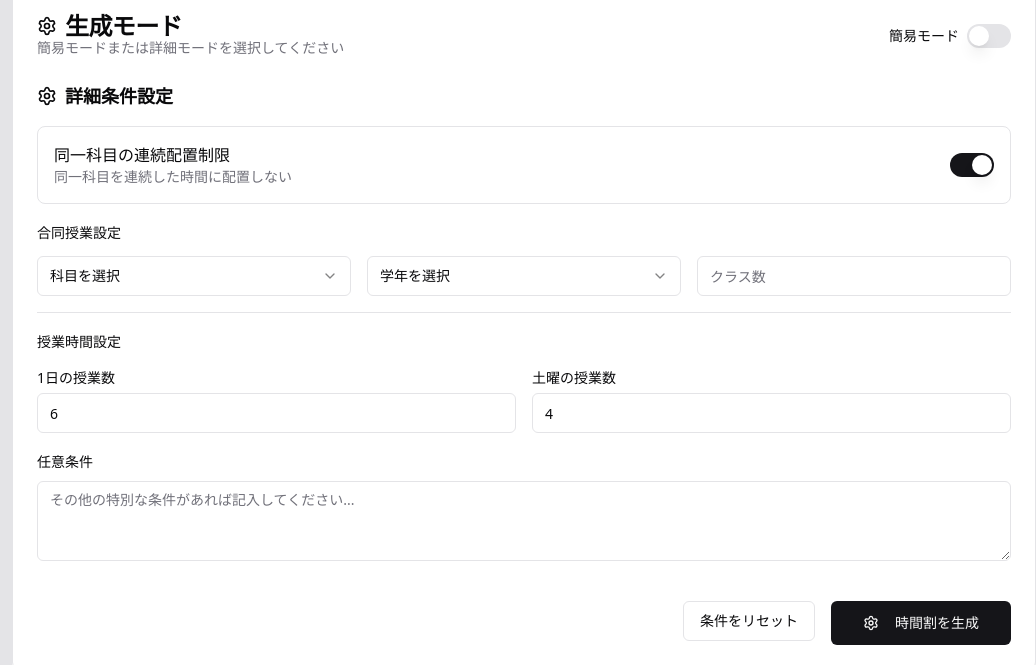
TimetableGenerate › 時間割生成は成功したが保存に失敗した場合を処理する
Click the button "時間割を生成" at (921, 623), box [831, 601, 1011, 645]
(page scrolled)
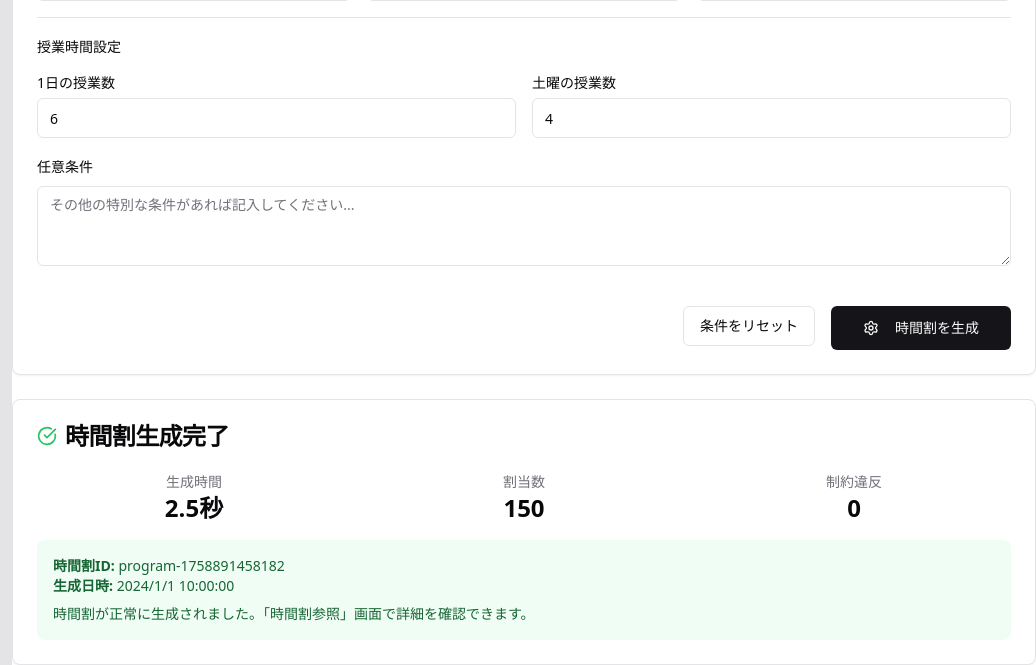
Expected: the text "時間割生成完了" is shown, [65, 424, 229, 448]
